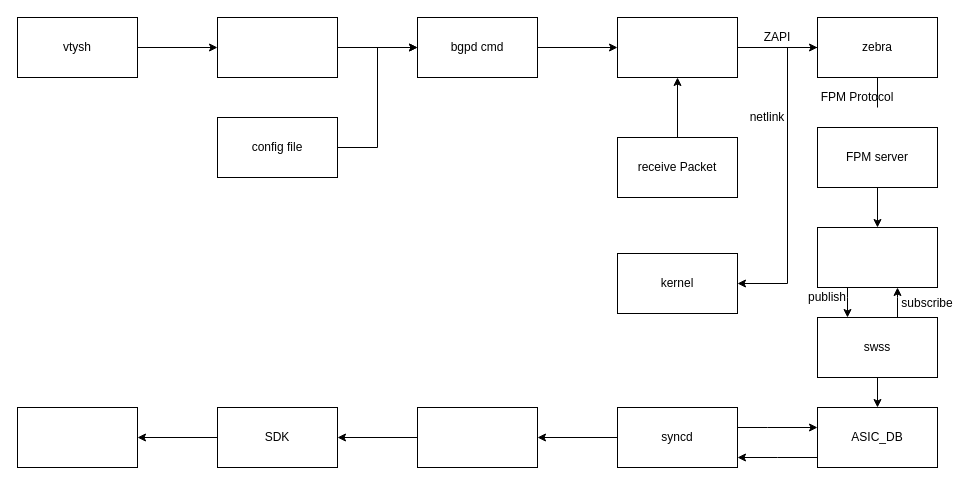
The diagram is 970 pixels wide and 485 high, and some of its shapes have lost their labels. The box of each missing label's shape, as (x1, y1, x2, y2) in pixels:
APPL_DB: (816, 226, 938, 288)
ASIC: (16, 406, 138, 468)
FSM: (616, 16, 738, 78)
SAI: (416, 406, 538, 468)
vtycmd: (216, 16, 338, 78)
